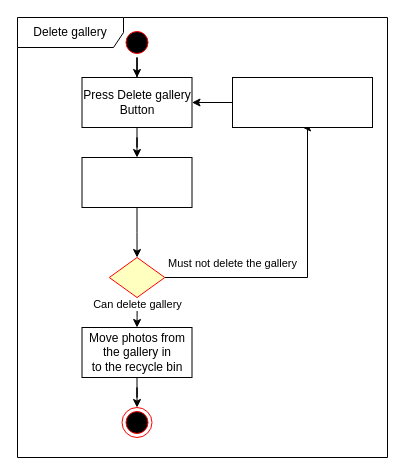
Image size: 405x475. Some labels were removed from this diagram. Here are the shapes that lost their labels. From the top down, the centre of each, then its label:
At point 302,102: "Show error message".
At point 136,182: "Validate token/user".
